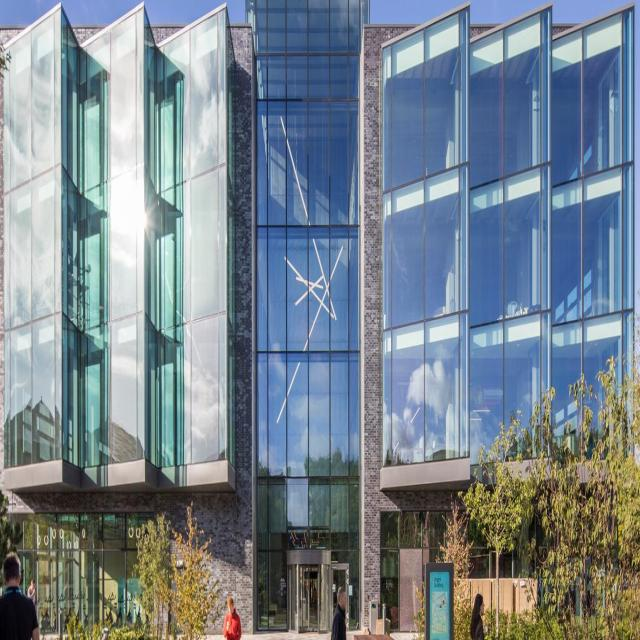door: (287, 547, 332, 630), (327, 564, 349, 633)
window: (380, 2, 634, 464), (4, 5, 237, 469), (254, 0, 361, 629), (24, 514, 139, 622)
